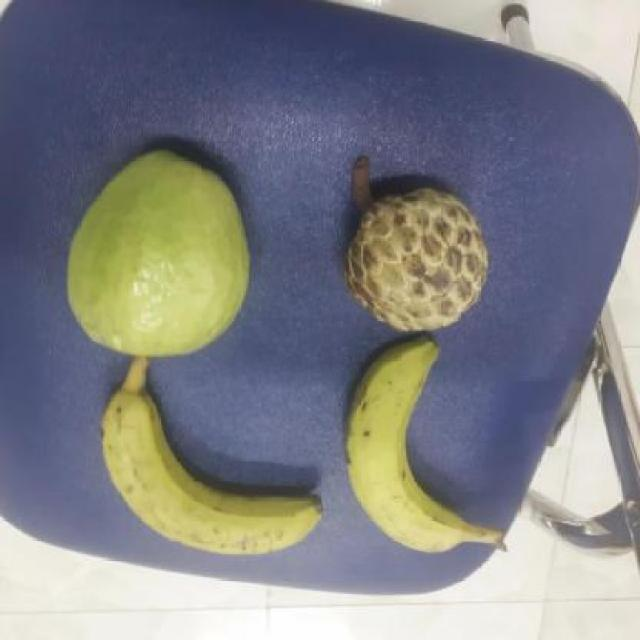banana: (93, 370, 330, 552), (341, 334, 492, 561)
guava: (60, 147, 269, 364)
sugar apple: (344, 185, 491, 337)
